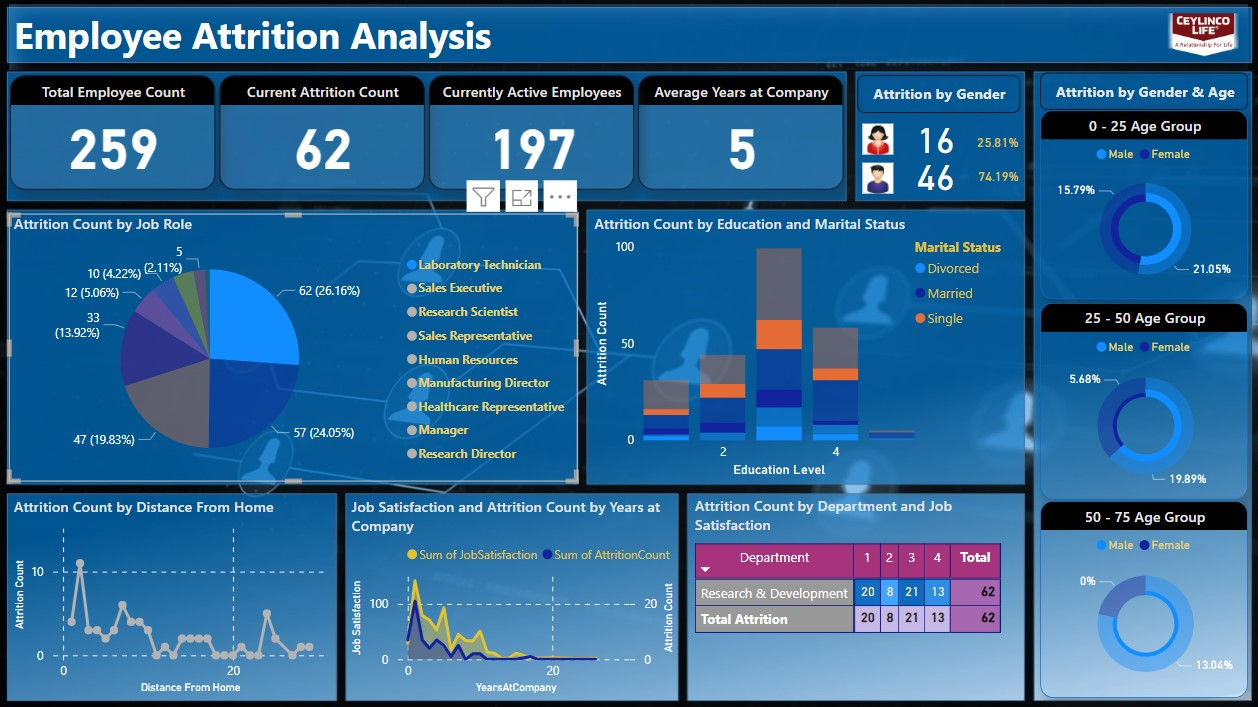

The page's visual inventory and layout, read from the dashboard file:
{"tool":"powerbi","page":{"name":"Page 1","canvas":[1280,720],"ordinal":0},"visuals":[{"type":"textbox","box":[9.9,4.3,1258.5,66.7],"z":0},{"type":"card","title":"Total Employee Count","fields":{"Values":["Sum(Employee Attrition.EmployeeCount)"]},"box":[11.4,76.6,208.6,116.3],"z":1000},{"type":"card","title":"Average Years at Company","fields":{"Values":["Employee Attrition.AverageYears"]},"box":[649.8,76.6,208.6,116.3],"z":2000},{"type":"card","title":"Current Attrition Count","fields":{"Values":["Sum(Employee Attrition.AttritionCount)"]},"box":[224.2,76.6,208.6,116.3],"z":3000},{"type":"card","title":"Currently Active Employees","fields":{"Values":["Employee Attrition.ActiveEmployees"]},"box":[437,76.6,208.6,116.3],"z":4000},{"type":"card","fields":{"Values":["Employee Attrition.FemaleAttritionCount"]},"box":[918,113.5,68.1,52.5],"z":5000},{"type":"card","fields":{"Values":["Employee Attrition.MaleAttritionCount"]},"box":[912.3,153.2,79.5,48.2],"z":6000},{"type":"card","fields":{"Values":["Employee Attrition.PerMaleAttrition"]},"box":[988.9,161.7,53.9,36.9],"z":7000},{"type":"card","fields":{"Values":["Employee Attrition.PerFemaleAttrition"]},"box":[980.6,129,69.4,33.1],"z":8000},{"type":"textbox","box":[873.1,76.1,165.4,38],"z":9000},{"type":"pieChart","title":"Attrition Count by Job Role","fields":{"Category":["Employee Attrition.JobRole"],"Y":["Sum(Employee Attrition.AttritionCount)"]},"box":[9.9,216.6,578.7,272.8],"z":10000},{"type":"columnChart","title":"Attrition Count by Education and Marital Status","fields":{"Category":["Employee Attrition.Education"],"Y":["Sum(Employee Attrition.AttritionCount)"],"Series":["Employee Attrition.MaritalStatus"]},"box":[600.2,217.1,438.4,272.4],"z":11000},{"type":"lineChart","title":"Attrition Count by Distance From Home","fields":{"Category":["Employee Attrition.DistanceFromHome"],"Y":["Sum(Employee Attrition.AttritionCount)"]},"box":[9.9,505.1,329.2,204.3],"z":12000},{"type":"areaChart","title":"Job Satisfaction and Attrition Count by Years at Company","fields":{"Y":["Sum(Employee Attrition.JobSatisfaction)"],"Y2":["Sum(Employee Attrition.AttritionCount)"],"Category":["Employee Attrition.YearsAtCompany"]},"box":[353.3,505.1,337.7,204.3],"z":13000},{"type":"pivotTable","title":"Attrition Count by Department and Job Satisfaction","fields":{"Rows":["Employee Attrition.Department"],"Columns":["Employee Attrition.JobSatisfaction"],"Values":["Sum(Employee Attrition.AttritionCount)"]},"box":[702.8,504.3,335.7,205],"z":14000},{"type":"image","box":[1177.6,8.5,90.8,56.8],"z":15000},{"type":"donutChart","title":"0 - 25 Age Group","fields":{"Category":["Employee Attrition.Gender"],"Series":["Employee Attrition.AgeBand"],"Y":["Sum(Employee Attrition.AttritionCount)"]},"box":[1058.3,112.4,210,191.8],"z":16000},{"type":"donutChart","title":"25 - 50 Age Group","fields":{"Category":["Employee Attrition.Gender"],"Series":["Employee Attrition.AgeBand"],"Y":["Sum(Employee Attrition.AttritionCount)"]},"box":[1058.5,306.5,210,200.1],"z":17000},{"type":"donutChart","title":"50 - 75 Age Group","fields":{"Category":["Employee Attrition.Gender"],"Series":["Employee Attrition.AgeBand"],"Y":["Sum(Employee Attrition.AttritionCount)"]},"box":[1058.3,509.3,210,200.1],"z":18000},{"type":"textbox","box":[1058.3,74.4,210,38],"z":19000},{"type":"image","box":[873.1,120.7,41.3,41.3],"z":20000},{"type":"image","box":[873.1,160.4,41.3,41.3],"z":21000}]}

Visuals, with their boxes in screenshot pixels (x1, y1, x2, y2), scaled from the page's 1280x720 canvas onto the 1258x707 screenshot:
textbox: 10, 4, 1247, 70
"Total Employee Count" card: 11, 75, 216, 189
"Average Years at Company" card: 639, 75, 844, 189
"Current Attrition Count" card: 220, 75, 425, 189
"Currently Active Employees" card: 429, 75, 635, 189
card - Employee Attrition.FemaleAttritionCount: 902, 111, 969, 163
card - Employee Attrition.MaleAttritionCount: 897, 150, 975, 198
card - Employee Attrition.PerMaleAttrition: 972, 159, 1025, 195
card - Employee Attrition.PerFemaleAttrition: 964, 127, 1032, 159
textbox: 858, 75, 1021, 112
"Attrition Count by Job Role" pieChart: 10, 213, 578, 481
"Attrition Count by Education and Marital Status" columnChart: 590, 213, 1021, 481
"Attrition Count by Distance From Home" lineChart: 10, 496, 333, 697
"Job Satisfaction and Attrition Count by Years at Company" areaChart: 347, 496, 679, 697
"Attrition Count by Department and Job Satisfaction" pivotTable: 691, 495, 1021, 696
image: 1157, 8, 1247, 64
"0 - 25 Age Group" donutChart: 1040, 110, 1247, 299
"25 - 50 Age Group" donutChart: 1040, 301, 1247, 497
"50 - 75 Age Group" donutChart: 1040, 500, 1247, 697
textbox: 1040, 73, 1247, 110
image: 858, 119, 899, 159
image: 858, 158, 899, 198
